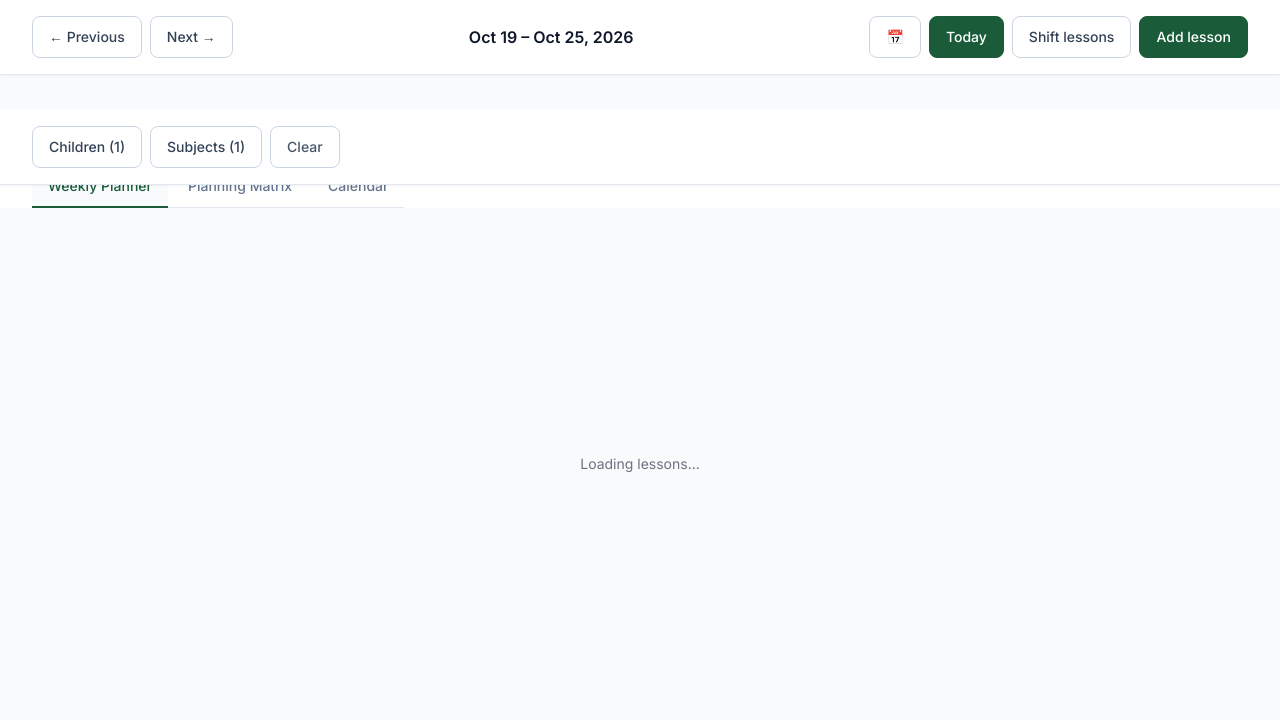
WeeklyPlannerPage › Shift lessons panel is closed by default and toggles open with learners and courses
The width and height of the screenshot is (1280, 720).
Click the button "Shift lessons" at (1072, 37), box [1012,16,1131,58]
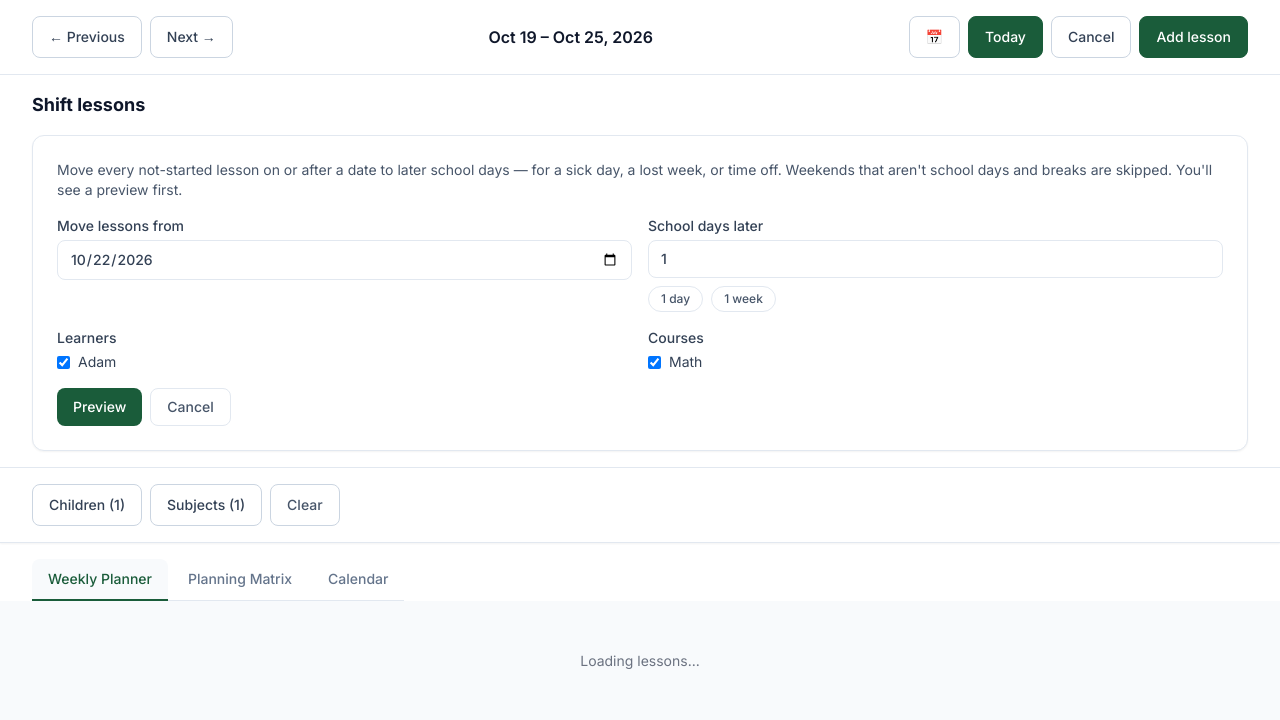
Expected: the heading "Shift lessons" is shown, [32,94,145,115]
Expected: the element with test id "shift-lessons-panel" shows "Adam", [78,353,116,370]
Expected: the element with test id "shift-lessons-panel" shows "Math", [669,353,702,370]
Click the button with aria-label "Cancel shift" at (1091, 37), box [1051,16,1131,58]
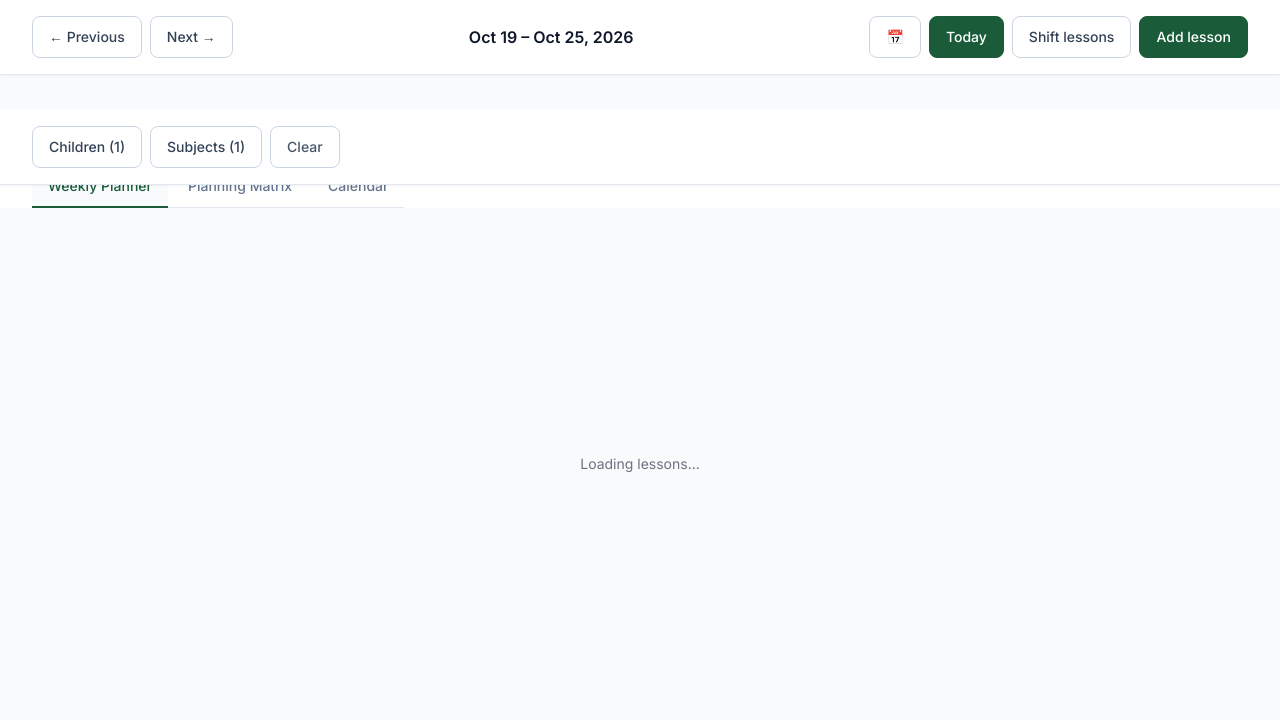
Expected: the element with test id "shift-lessons-panel" is gone
